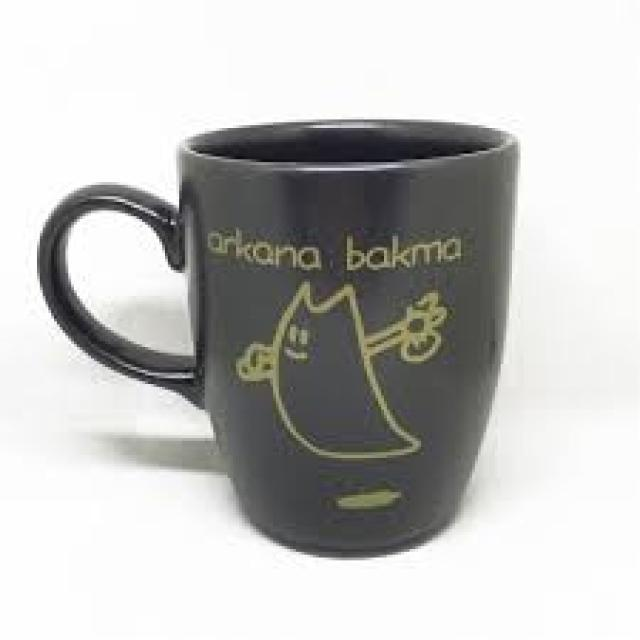taza: (36, 114, 521, 561)
